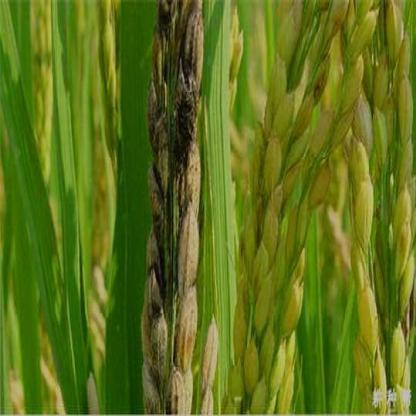rice-bug: (172, 55, 204, 177)
